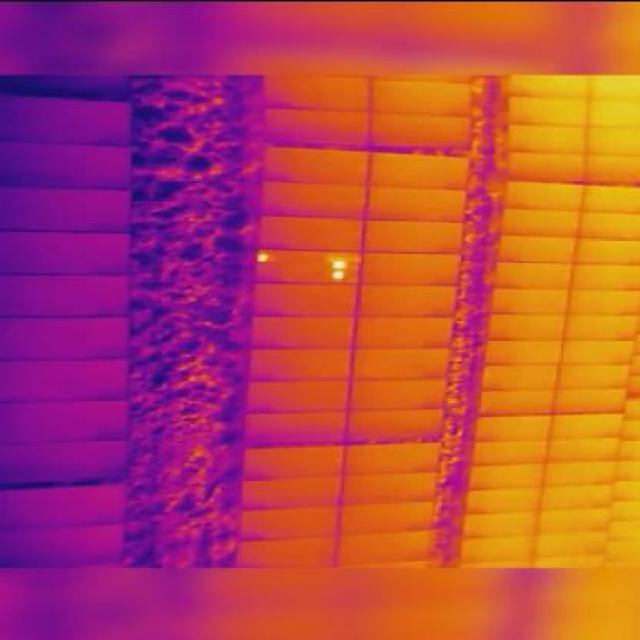hotspot: (328, 268, 350, 282), (256, 250, 275, 262), (332, 257, 348, 269)
